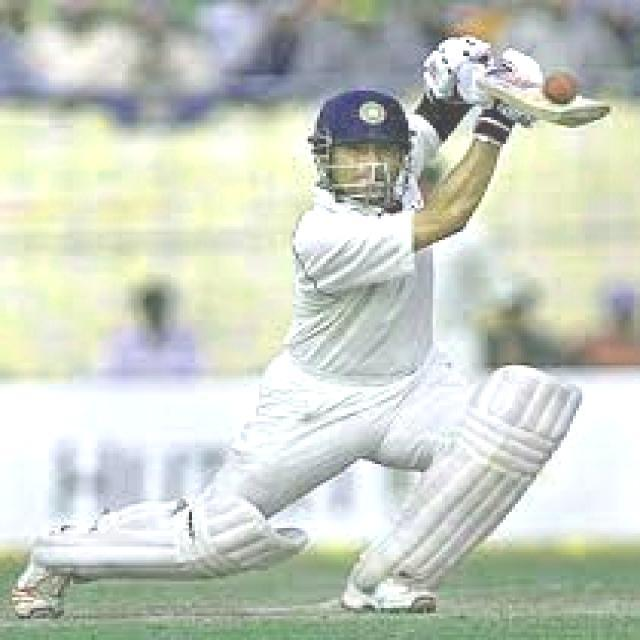bat: (474, 68, 609, 126)
toe: (554, 106, 606, 126)
